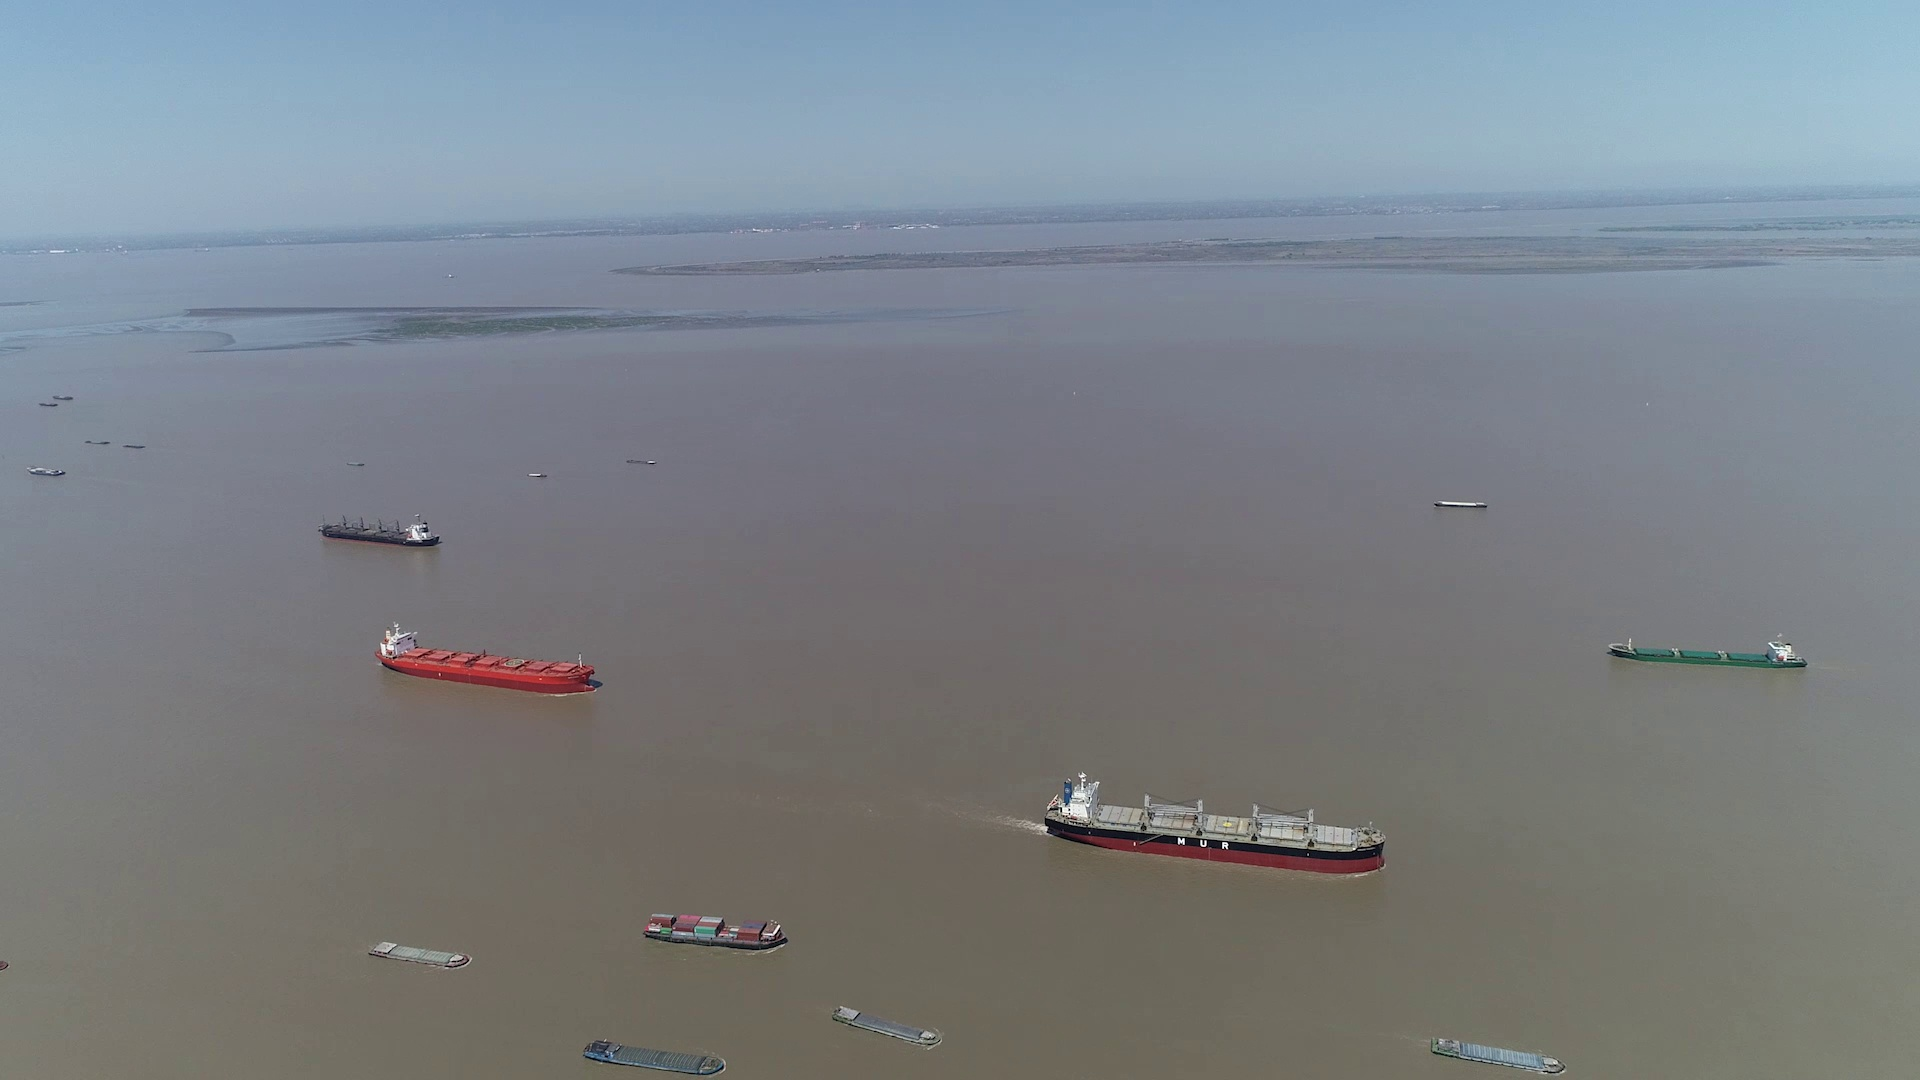ship: (1044, 775, 1389, 874), (373, 622, 595, 694), (1611, 634, 1809, 669), (642, 913, 789, 952), (583, 1040, 727, 1077), (1432, 1038, 1565, 1075), (833, 1006, 942, 1048), (318, 513, 436, 547), (371, 940, 469, 968), (1435, 498, 1487, 509), (28, 465, 66, 476), (625, 458, 655, 465)
